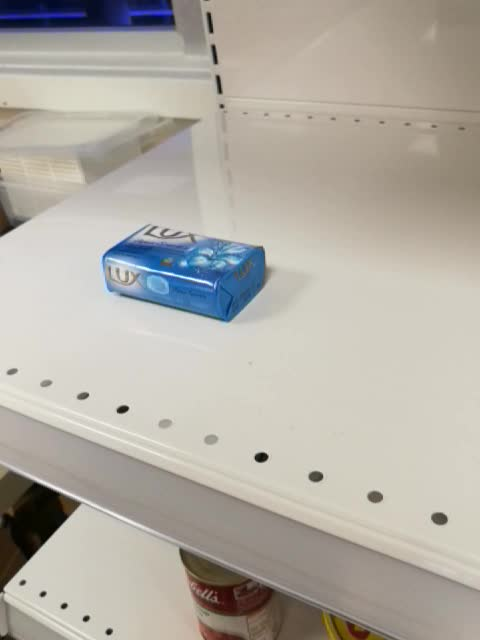soap: (101, 223, 267, 323)
